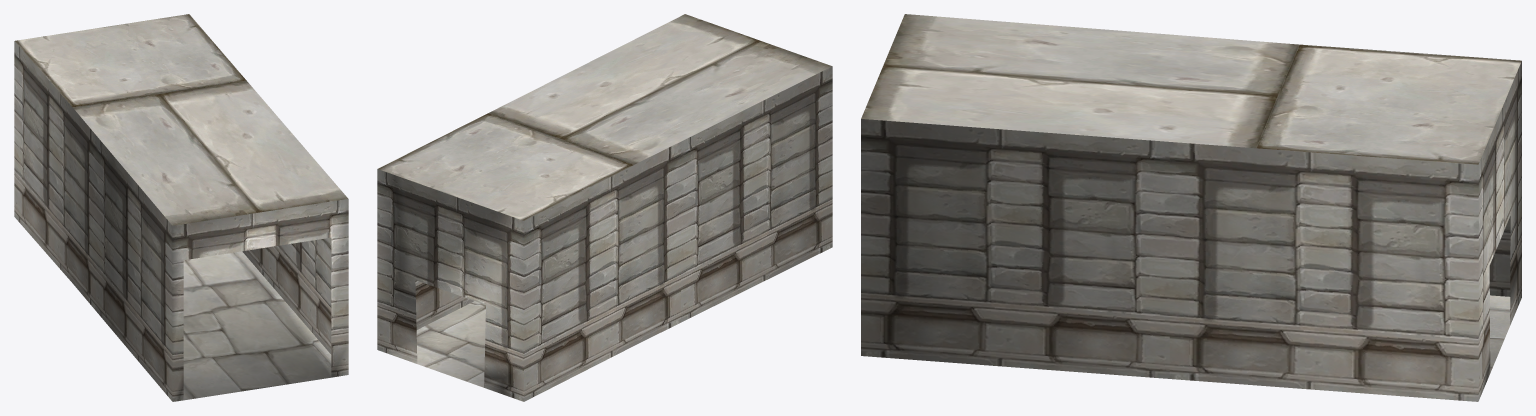
The model's file is stormwind_083.fbx.
The picture shows the model from 3 angles, left to right: view 1: azimuth 30°, elevation 25°; view 2: azimuth 150°, elevation 25°; view 3: azimuth 270°, elevation 25°; orthographic projection. The views are drawn at different scales.
Parts seen in each view (by area): view 1: stormwind_083_60, stormwind_083_40, stormwind_083_52; view 2: stormwind_083_60, stormwind_083_40, stormwind_083_52; view 3: stormwind_083_60, stormwind_083_40, stormwind_083_52.
Part boxes in pixels (x1,y1,x2,y2): stormwind_083_60: (14, 41, 348, 401); stormwind_083_40: (15, 14, 348, 225); stormwind_083_52: (183, 251, 331, 400); stormwind_083_60: (377, 66, 832, 401); stormwind_083_40: (378, 14, 831, 220); stormwind_083_52: (416, 301, 485, 387); stormwind_083_60: (861, 61, 1521, 401); stormwind_083_40: (861, 14, 1521, 164); stormwind_083_52: (1490, 295, 1510, 372).
Size of the model in its own units: 8.55 by 6.26 by 15.82.
